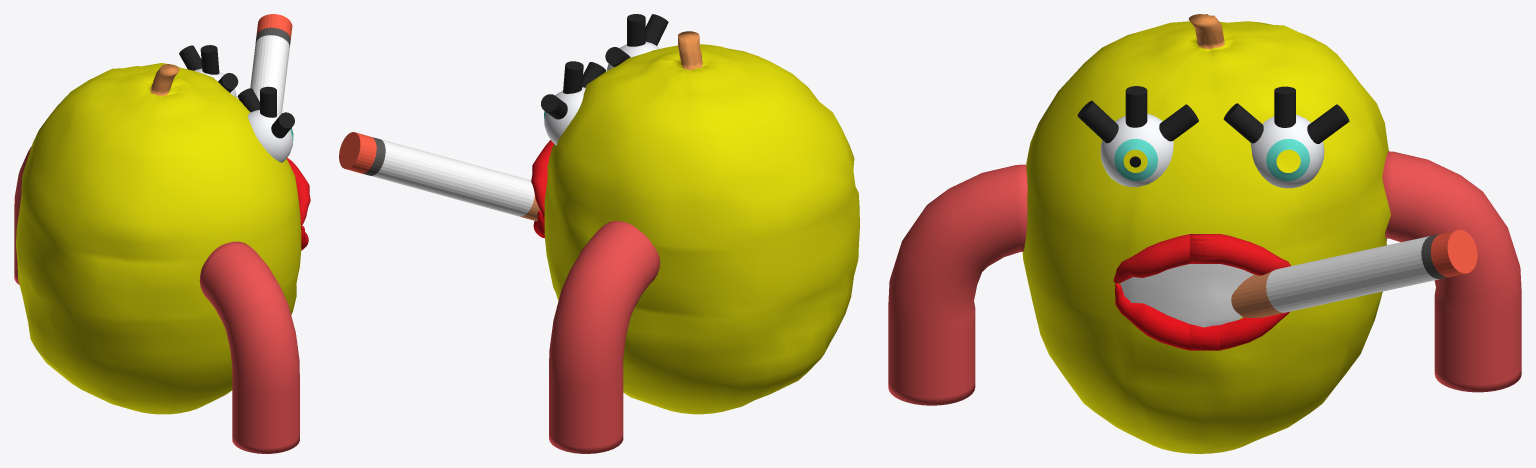
The model's file is mango.fbx.
3 renders of one model, left to right at view 1: azimuth 30°, elevation 25°; view 2: azimuth 150°, elevation 25°; view 3: azimuth 270°, elevation 25°, orthographic. The views are drawn at different scales.
Visible parts, largest first — view 1: Cylinder, Cylinder.008, Cylinder.010, Cylinder.006, Sphere.001, Cylinder.009; view 2: Cylinder, Cylinder.009, Cylinder.010, Cylinder.006, Sphere.001; view 3: Cylinder, Cylinder.008, Cylinder.009, Cylinder.010, Sphere.001, Cylinder.006.
Part boxes in pixels (x1=…): Cylinder: x1=16, y1=63, x2=310, y2=414; Cylinder.008: x1=199, y1=241, x2=299, y2=453; Cylinder.010: x1=250, y1=14, x2=292, y2=114; Cylinder.006: x1=179, y1=45, x2=294, y2=138; Sphere.001: x1=194, y1=68, x2=293, y2=162; Cylinder.009: x1=14, y1=146, x2=31, y2=284; Cylinder: x1=531, y1=31, x2=859, y2=414; Cylinder.009: x1=549, y1=221, x2=660, y2=453; Cylinder.010: x1=339, y1=132, x2=540, y2=221; Cylinder.006: x1=541, y1=14, x2=668, y2=119; Sphere.001: x1=544, y1=42, x2=659, y2=145; Cylinder: x1=1022, y1=14, x2=1390, y2=453; Cylinder.008: x1=888, y1=164, x2=1027, y2=405; Cylinder.009: x1=1382, y1=151, x2=1521, y2=392; Cylinder.010: x1=1231, y1=229, x2=1477, y2=317; Sphere.001: x1=1100, y1=114, x2=1324, y2=188; Cylinder.006: x1=1077, y1=86, x2=1349, y2=143.
Size of the model in its own units: 501 by 451 by 606.
